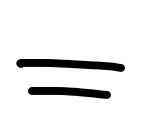eqv: (17, 59, 125, 100)
